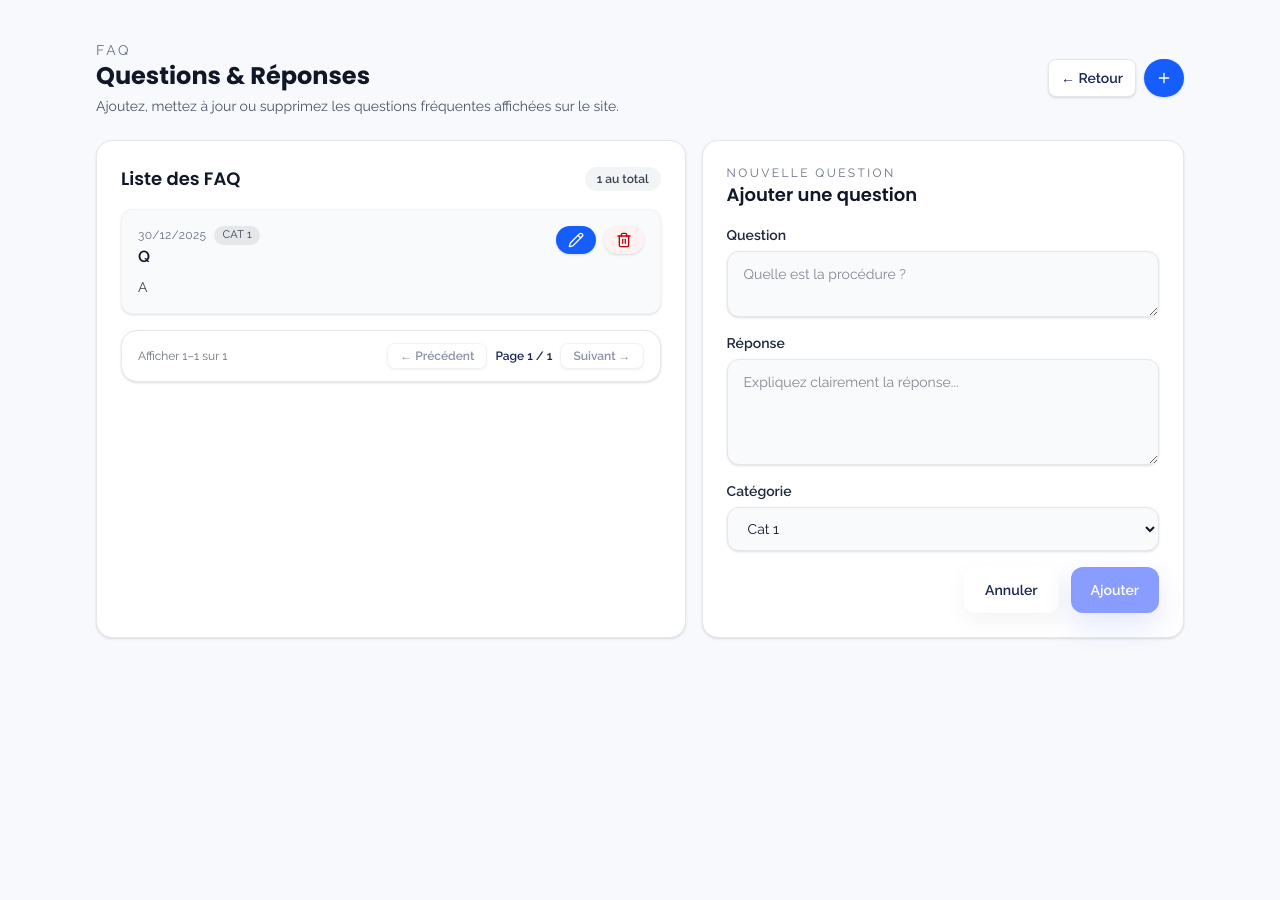
ConfirmModal delete flows across dashboard lists › faq list confirm modal closes after delete
Click the button named "supprimer": click(624, 240) [604,226,644,254]
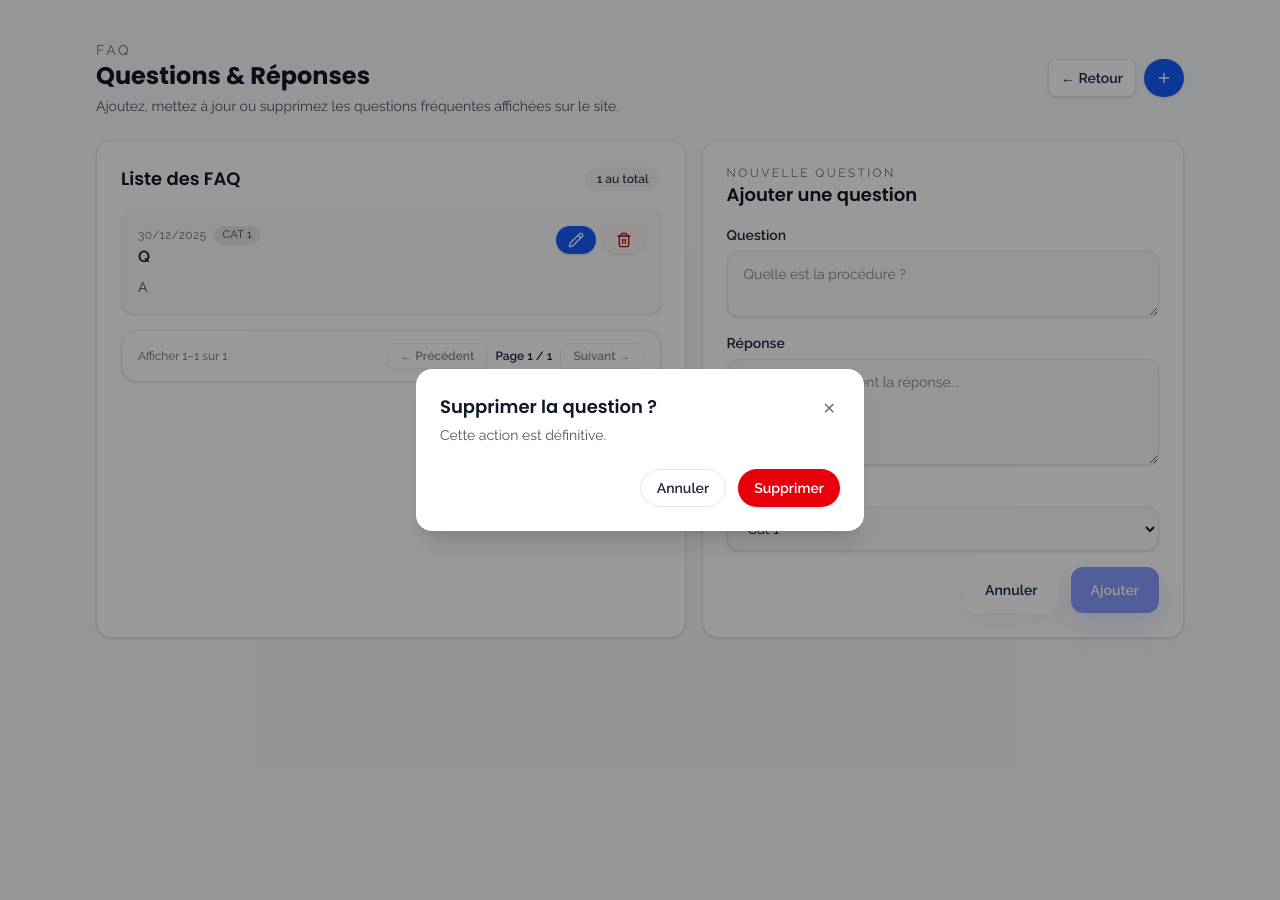
Expected: the heading "Supprimer la question ?" is shown, [440,393,657,421]
Click the button "Supprimer": click(789, 488) [738,469,840,507]
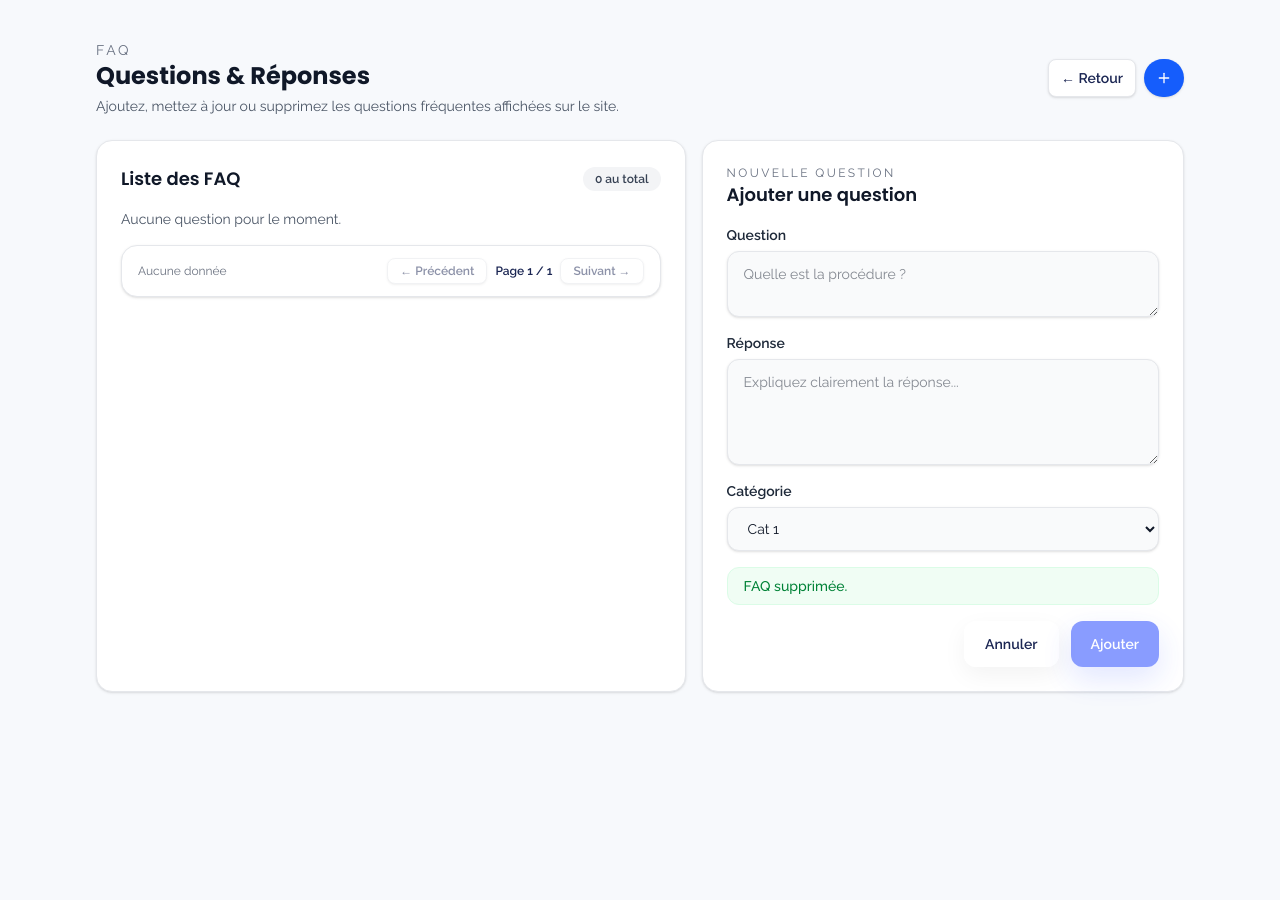
Expected: the heading "Supprimer la question" is gone
